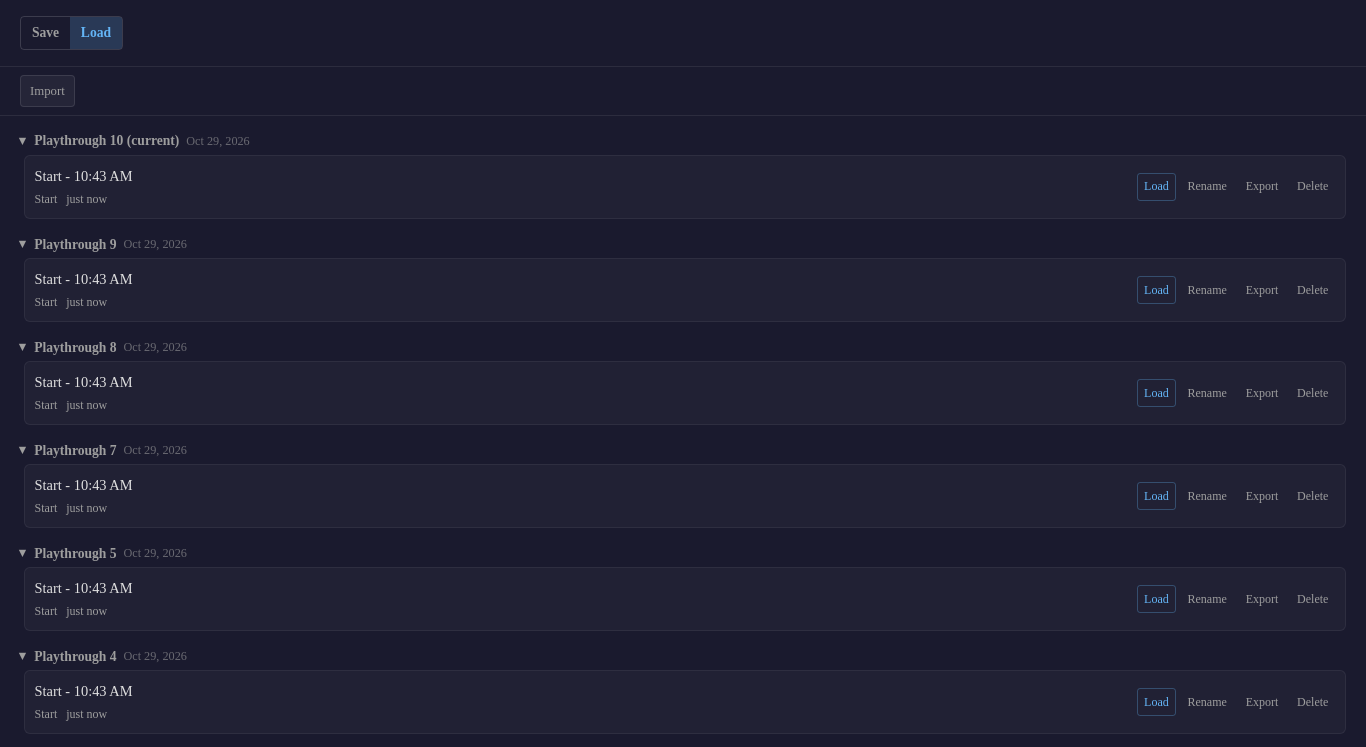
Scenario: SaveManagerContent › rename › clicking Rename shows input field
Step 1. Click the 2nd button with class "save-slot-action" → (1207, 187), box [1180,173,1234,201]
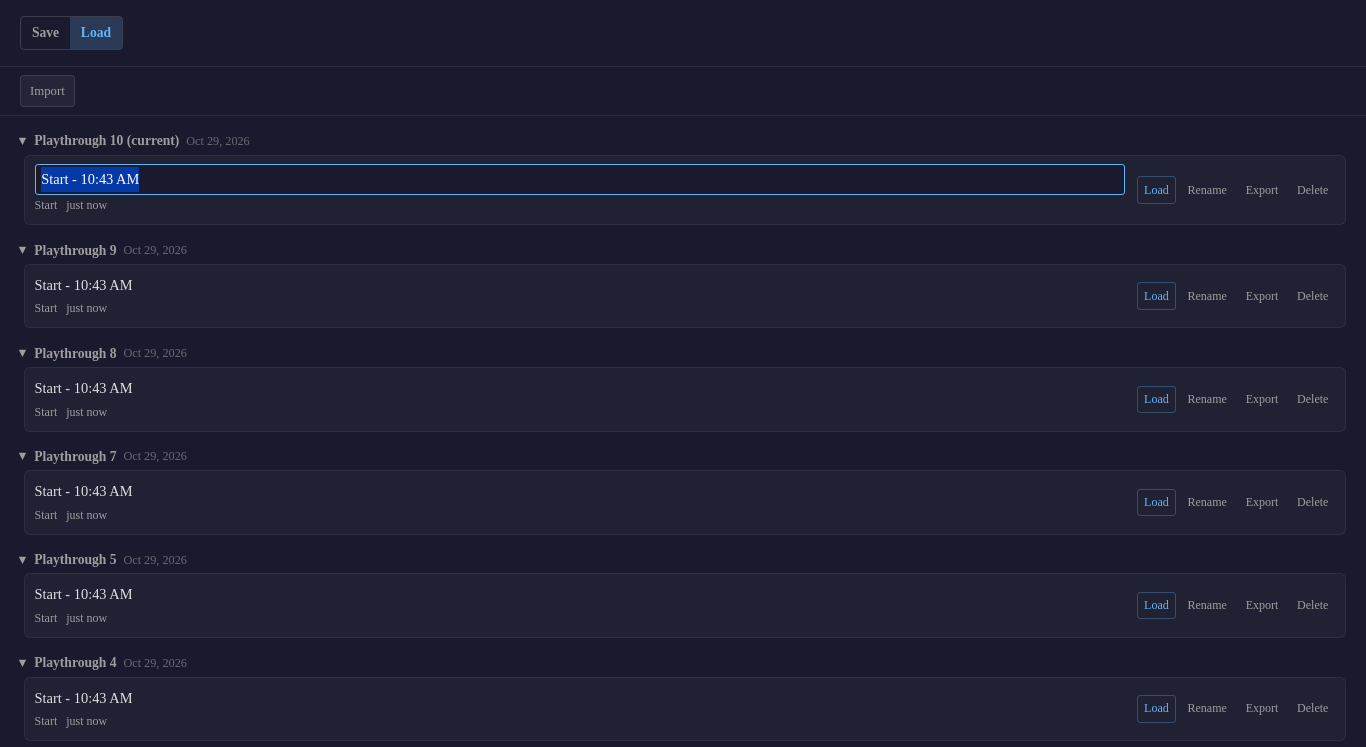
Check: the field with class "save-rename-input" is shown, box [35,164,1125,195]
